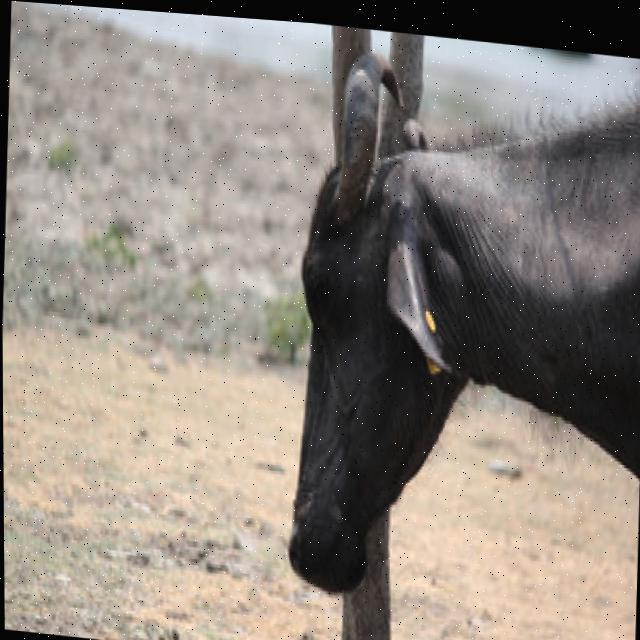Buffalo: (277, 34, 640, 627)
